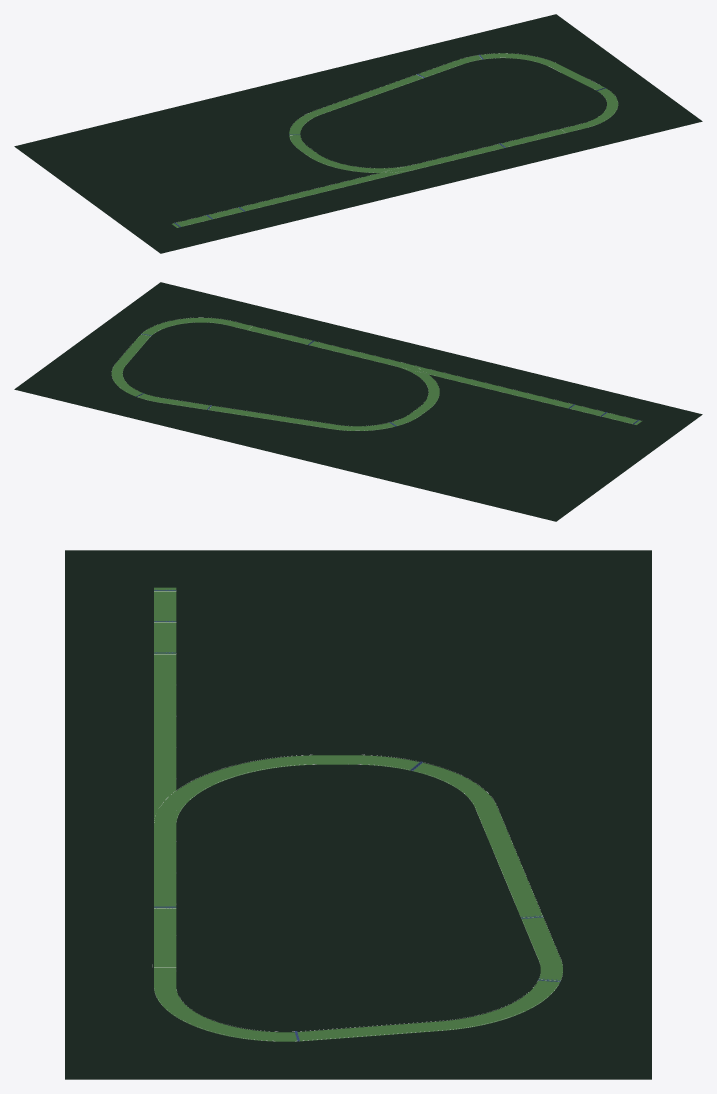
File: flemington.glb
3 renders of one model, top to bottom at view 1: azimuth 30°, elevation 25°; view 2: azimuth 150°, elevation 25°; view 3: azimuth 270°, elevation 25°, orthographic. The views are drawn at different scales.
Visible parts, largest first — view 1: Terrain, Surface; view 2: Terrain, Surface; view 3: Terrain, Surface.
Boxes of the visible parts, x1,y1,x2,y2 form: Terrain: [14, 14, 702, 253]; Surface: [172, 53, 618, 227]; Terrain: [14, 282, 702, 521]; Surface: [111, 317, 641, 430]; Terrain: [65, 550, 651, 1079]; Surface: [154, 587, 562, 1041].
Size of the model in its own units: 1689 by 4.8 by 792.
